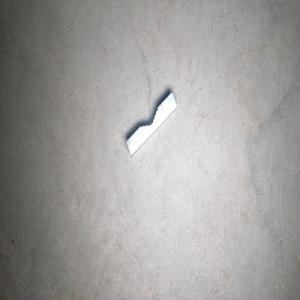ClampPart: (125, 90, 177, 157)
